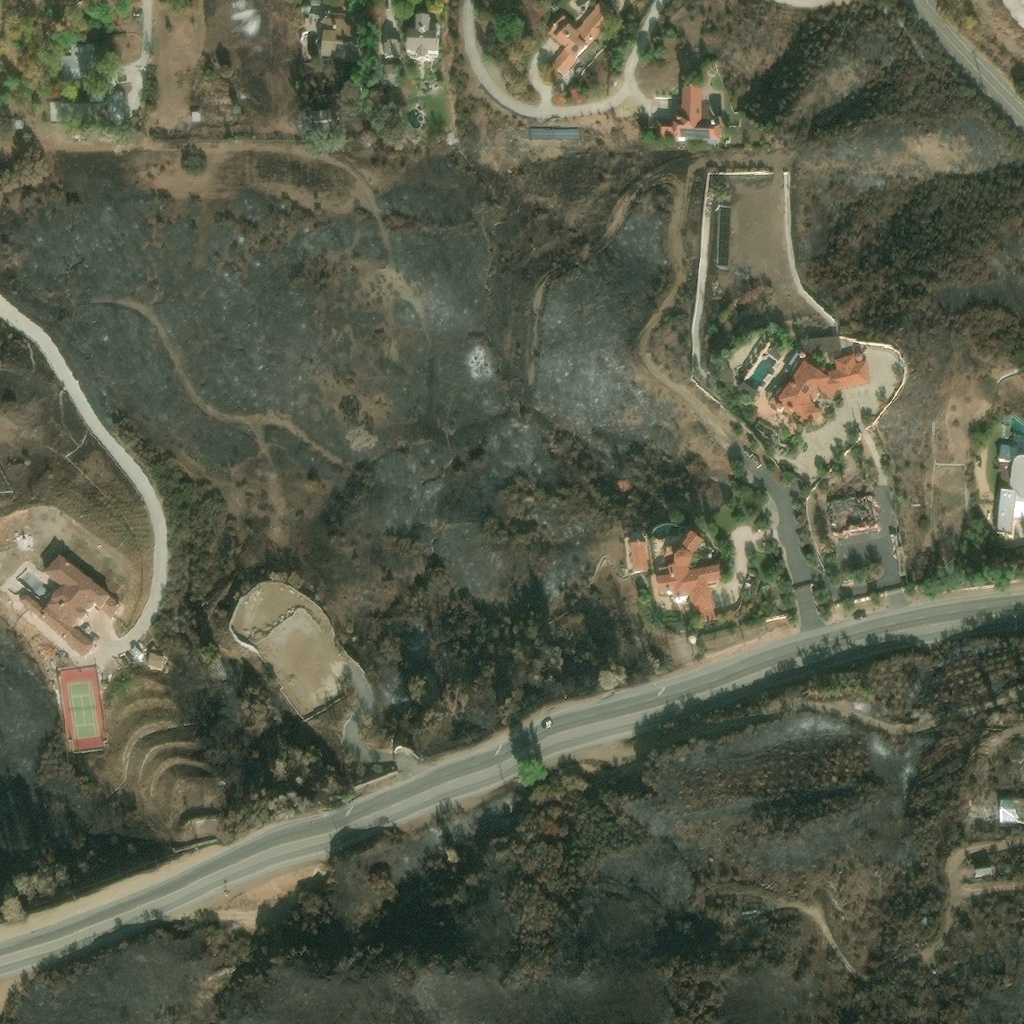0 no-damage: (18, 554, 123, 661), (765, 349, 872, 431), (656, 530, 727, 624), (546, 0, 617, 79), (659, 84, 721, 142), (996, 444, 1023, 537), (320, 17, 362, 61), (60, 44, 98, 86), (405, 13, 438, 56), (528, 129, 583, 141), (630, 541, 651, 572), (999, 798, 1023, 824), (807, 336, 841, 354), (717, 364, 736, 396), (107, 90, 125, 120), (147, 653, 165, 671), (316, 107, 336, 123), (739, 382, 757, 399), (385, 39, 402, 55), (974, 866, 994, 878), (768, 347, 782, 360), (192, 111, 202, 121), (688, 635, 698, 645), (16, 120, 25, 131), (424, 82, 433, 92), (303, 6, 312, 13)
3 destroyed: (826, 494, 878, 537), (754, 421, 781, 441)
